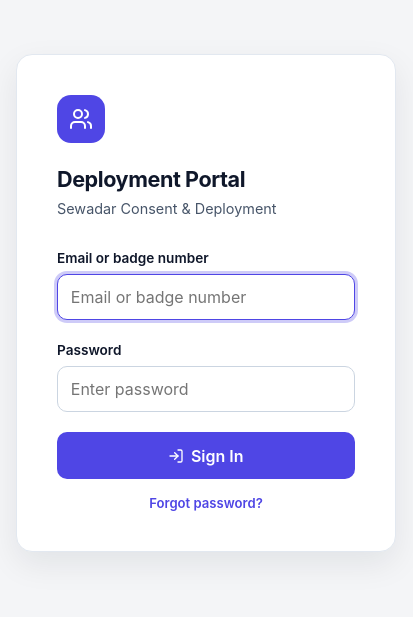
Scenario: LoginPage dual login › auth 429 gives up after the last retry with a readable message
Step 1. Type "aso@example.com" into the field with placeholder "Email or badge number" → [206, 297], box [57, 274, 355, 320]
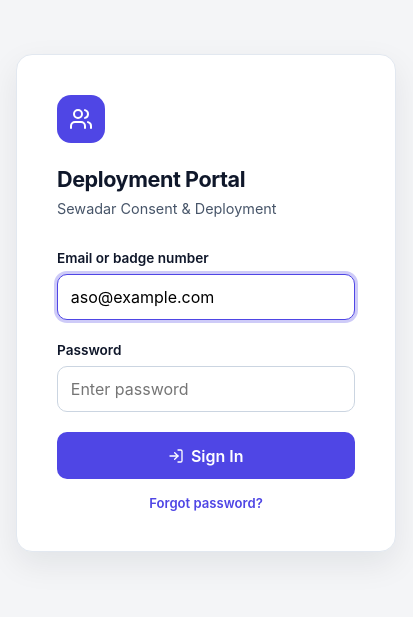
Step 2. Type "secret123" into the password field with placeholder "Enter password" → [206, 389], box [57, 366, 355, 412]
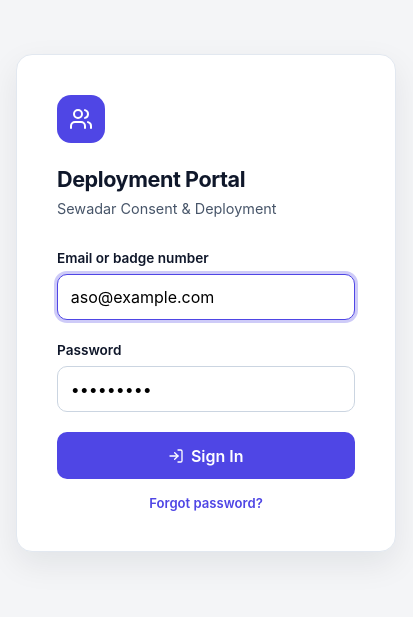
Step 3. Click the button "Sign In" → [206, 456], box [57, 432, 355, 479]
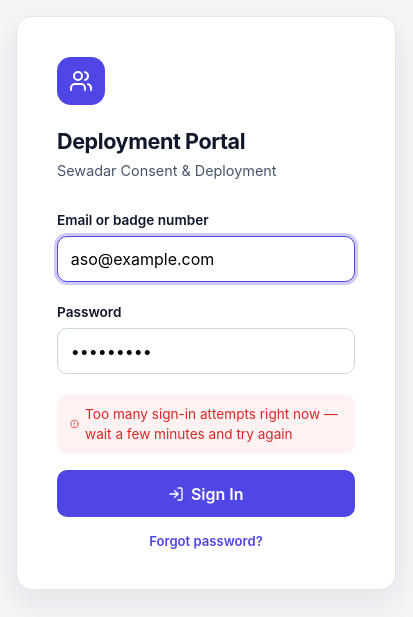
Expected: the text "Too many sign-in attempts right now — wait a few minutes and try again" is shown, [85, 404, 342, 445]
